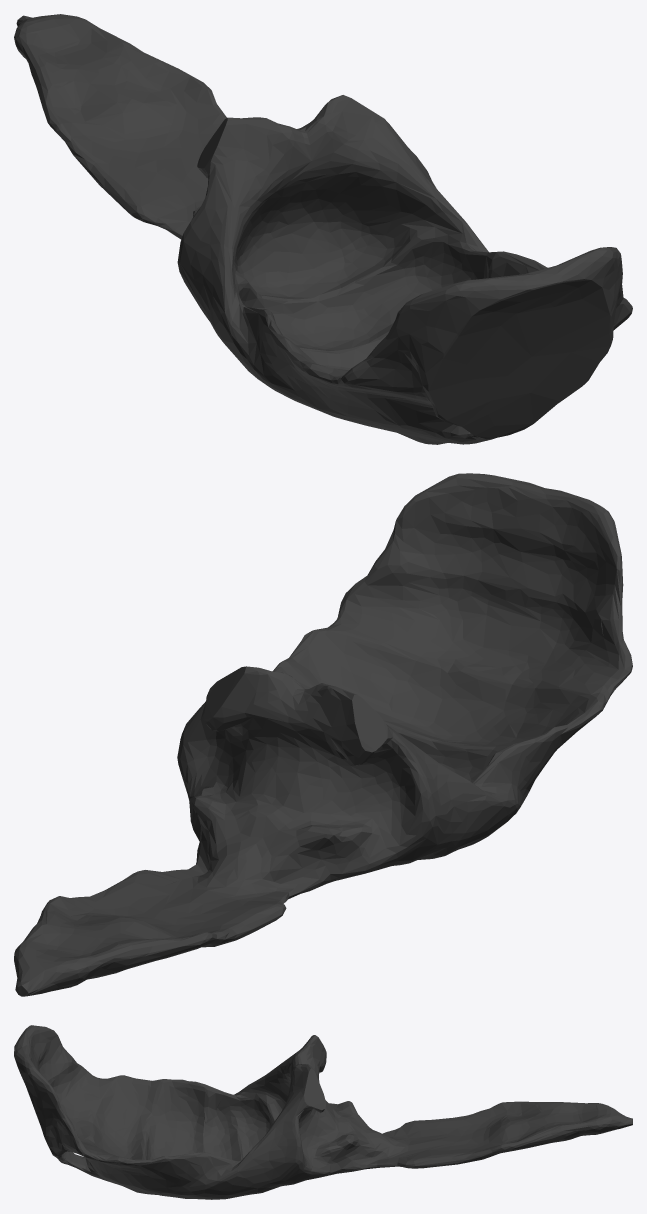
Rendered from Ventricle_4.glb.
3 views of the same model, one above another, from view 1: azimuth 30°, elevation 25°; view 2: azimuth 150°, elevation 25°; view 3: azimuth 270°, elevation 25° (orthographic). The views are drawn at different scales.
Parts seen in each view (by area): view 1: Ventricle_4; view 2: Ventricle_4; view 3: Ventricle_4.
Boxes of the visible parts, <box> form: Ventricle_4: <box>14,14,632,444</box>; Ventricle_4: <box>14,473,632,996</box>; Ventricle_4: <box>14,1025,632,1199</box>.
Bounding box in the file's own units: 0.0157 × 0.0125 × 0.048.
1 material, 1 textured.
